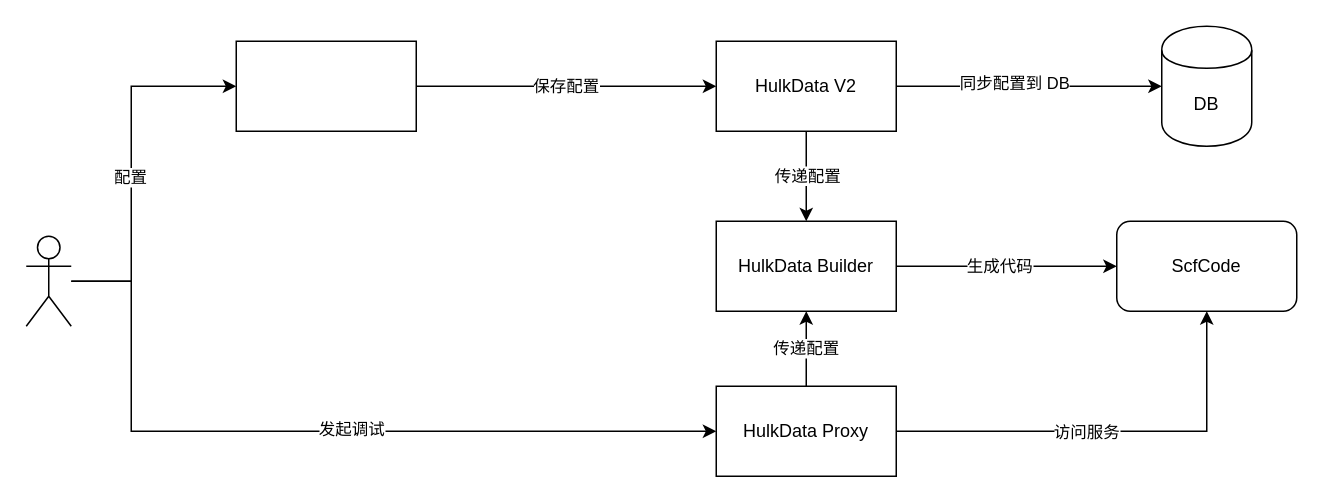
The diagram is 1323 pixels wide and 503 high, and some of its shapes have lost their labels. The shapes that lost their labels are listed below. From the top down, each one's centre as x and y in pixels, then its label:
point 325,85: Pipeline
point 48,280: User
